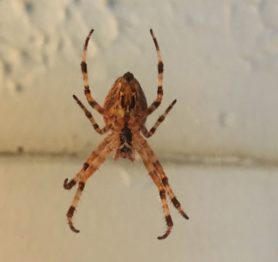spider: (50, 14, 198, 247)
